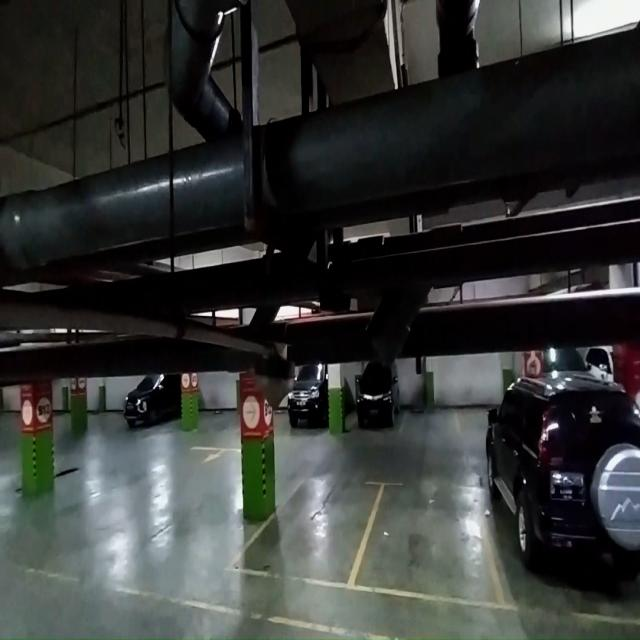empty: (356, 486, 511, 611), (238, 478, 374, 589)
occupied: (489, 408, 637, 623)
